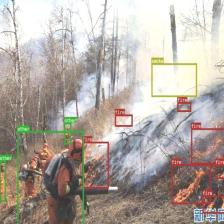fire: (171, 164, 211, 204), (82, 141, 108, 188), (191, 128, 224, 164), (202, 195, 224, 213), (114, 114, 132, 126), (214, 164, 224, 178), (177, 102, 191, 111)
smoke: (151, 63, 197, 97)
